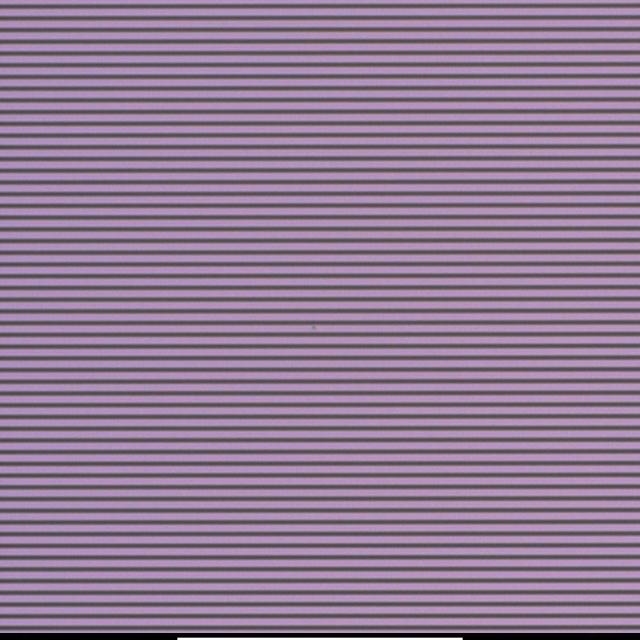nonvisual: (306, 321, 319, 333)
